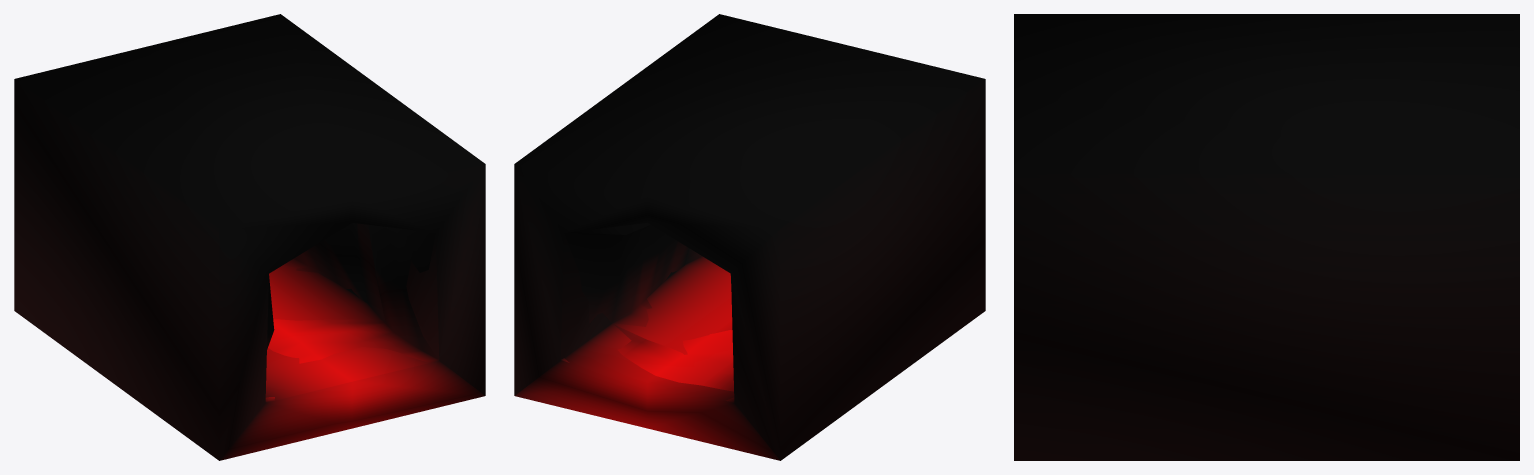
File: JD_Cave_A_Tunnel_4x8_01.fbx
3 views of the same model, side by side, from view 1: azimuth 30°, elevation 25°; view 2: azimuth 150°, elevation 25°; view 3: azimuth 270°, elevation 25° (orthographic). The views are drawn at different scales.
Visible parts, largest first — view 1: C_JD_Cave_A_Tunnel_4x8_01, JD_Cave_A_Tunnel_4x8_01; view 2: C_JD_Cave_A_Tunnel_4x8_01, JD_Cave_A_Tunnel_4x8_01; view 3: C_JD_Cave_A_Tunnel_4x8_01.
Boxes of the visible parts, box(x1,y1,x2,y2) form: C_JD_Cave_A_Tunnel_4x8_01: box(14, 14, 485, 460); JD_Cave_A_Tunnel_4x8_01: box(265, 223, 438, 401); C_JD_Cave_A_Tunnel_4x8_01: box(514, 14, 985, 460); JD_Cave_A_Tunnel_4x8_01: box(561, 223, 734, 401); C_JD_Cave_A_Tunnel_4x8_01: box(1014, 14, 1519, 460).
Bounding box in the file's own units: 6 × 5 × 8.
